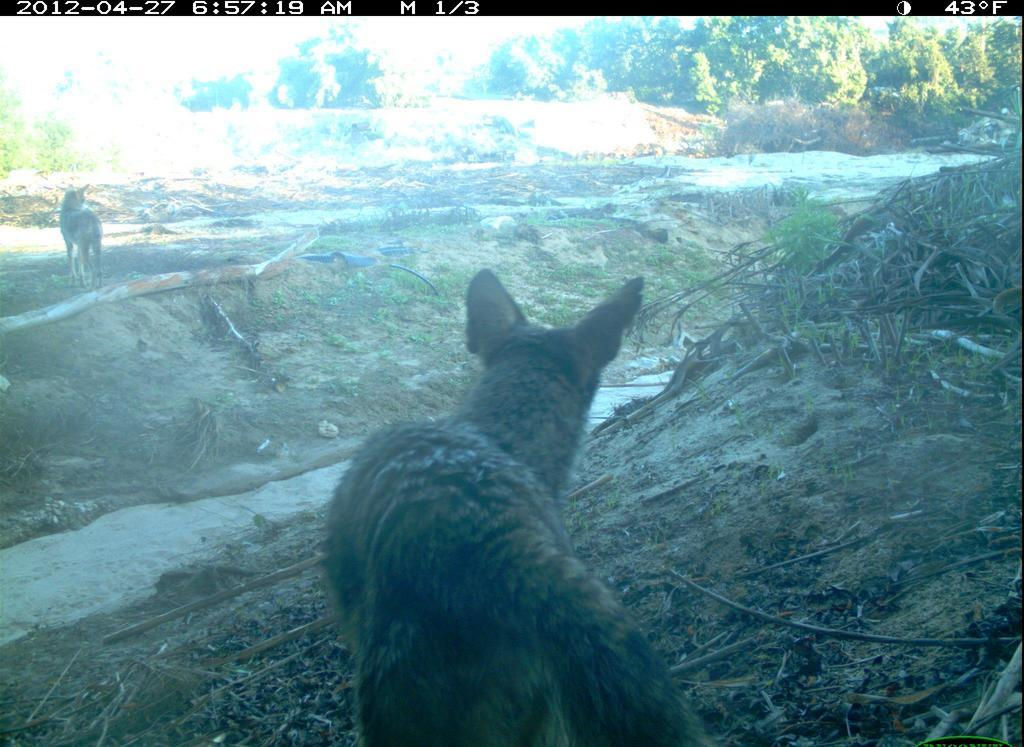coyote: (324, 263, 728, 747), (50, 178, 116, 296)
